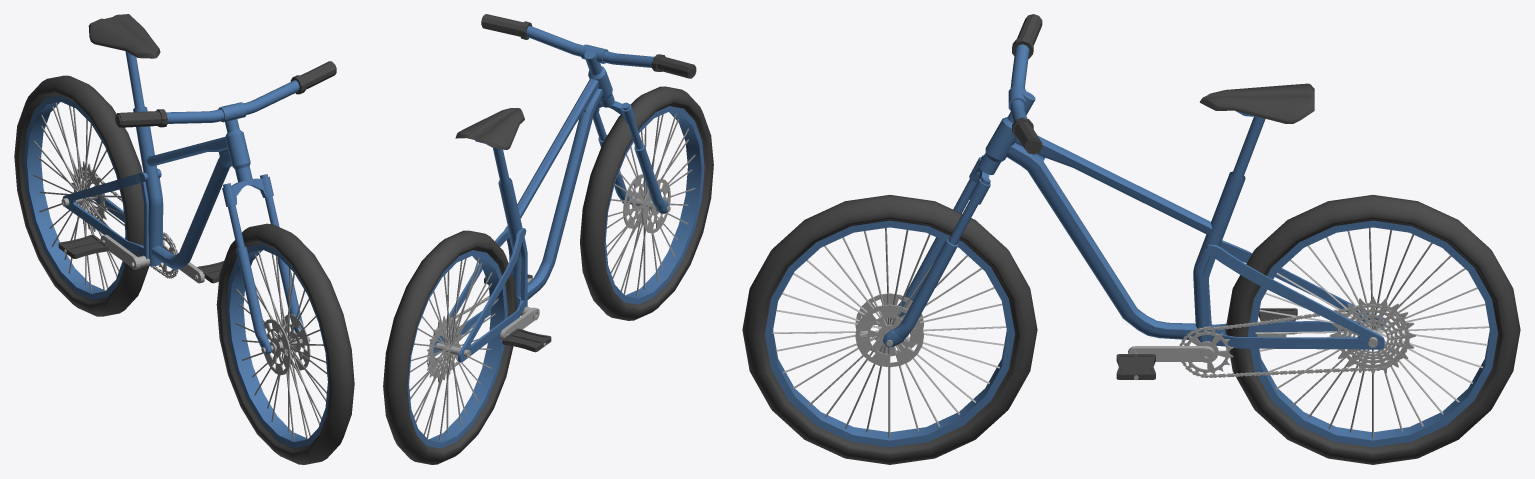
Rendered from bike.fbx.
3 renders of one model, left to right at view 1: azimuth 30°, elevation 25°; view 2: azimuth 150°, elevation 25°; view 3: azimuth 270°, elevation 25°, orthographic. The views are drawn at different scales.
Parts seen in each view (by area): view 1: bike; view 2: bike; view 3: bike.
Part boxes in pixels (bbox=[...]): bike: bbox=[14, 14, 354, 464]; bike: bbox=[383, 14, 713, 464]; bike: bbox=[742, 14, 1520, 464].
Bounding box in the file's own units: 4.11 × 5.89 × 10.71.
